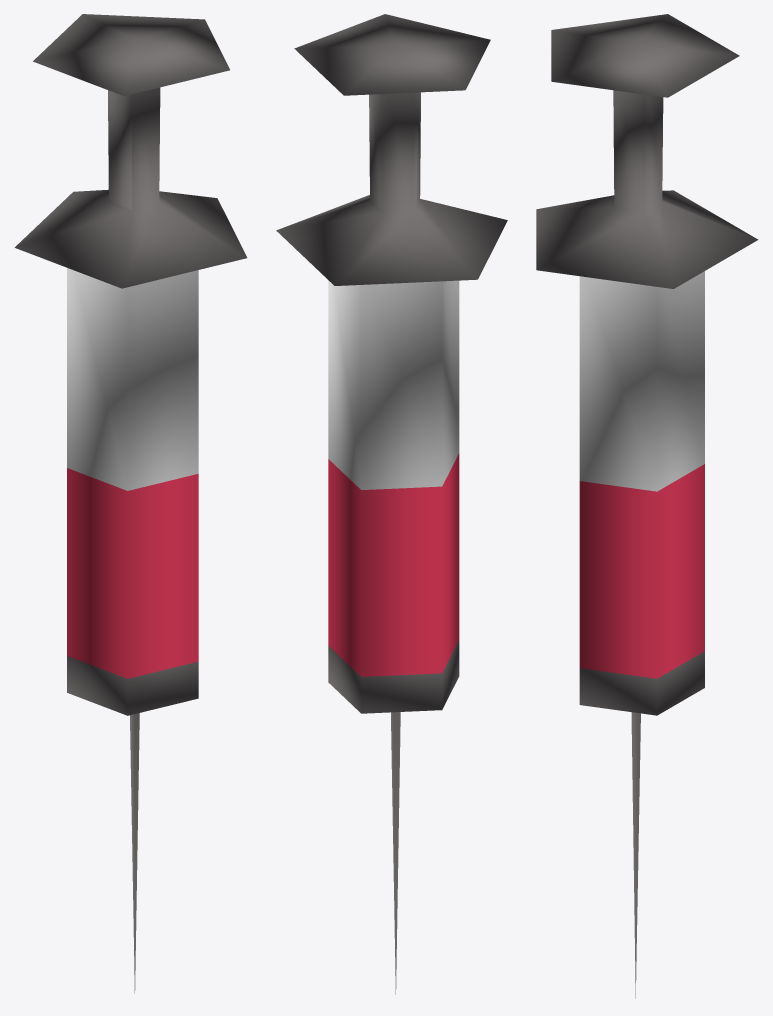
Rendered from Syringe.glb.
The picture shows the model from 3 angles, left to right: view 1: azimuth 30°, elevation 25°; view 2: azimuth 150°, elevation 25°; view 3: azimuth 270°, elevation 25°; orthographic projection.
Parts seen in each view (by area): view 1: Cylinder; view 2: Cylinder; view 3: Cylinder.
Boxes of the visible parts, x1=… form: Cylinder: x1=14, y1=14, x2=247, y2=993; Cylinder: x1=276, y1=14, x2=507, y2=994; Cylinder: x1=536, y1=14, x2=758, y2=998.
Size of the model in its own units: 0.3491 by 1.58 by 0.332.
